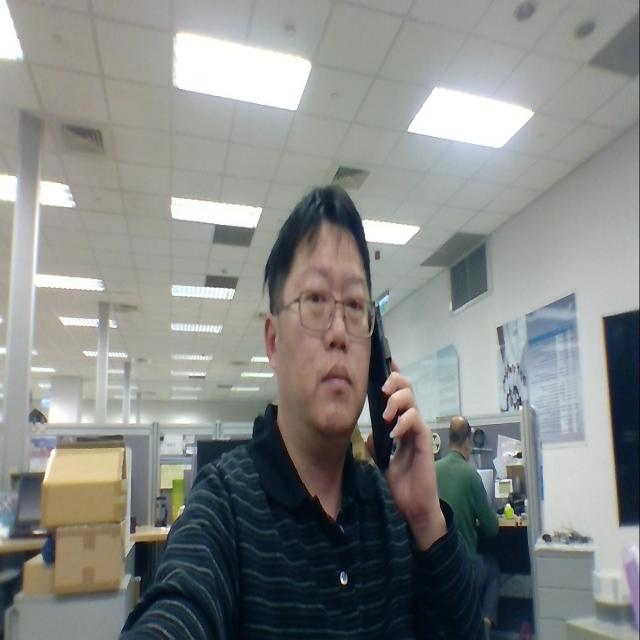phone: (359, 279, 418, 482)
